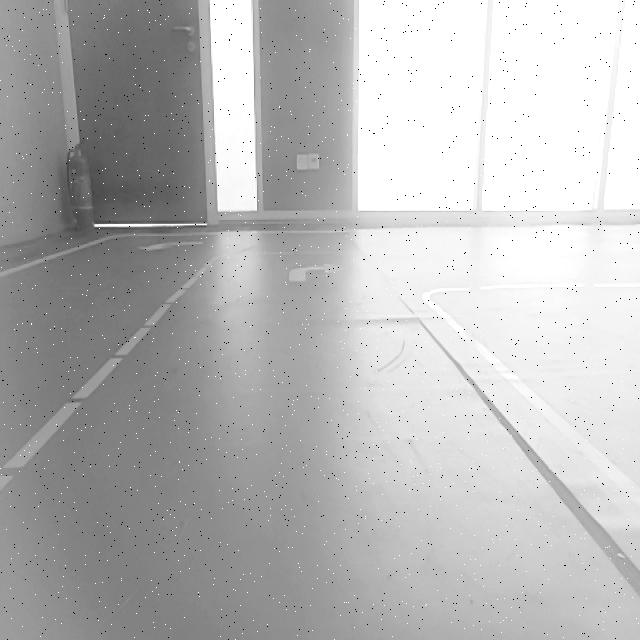left_lane: (0, 254, 216, 500)
right_lane: (427, 300, 640, 527)
